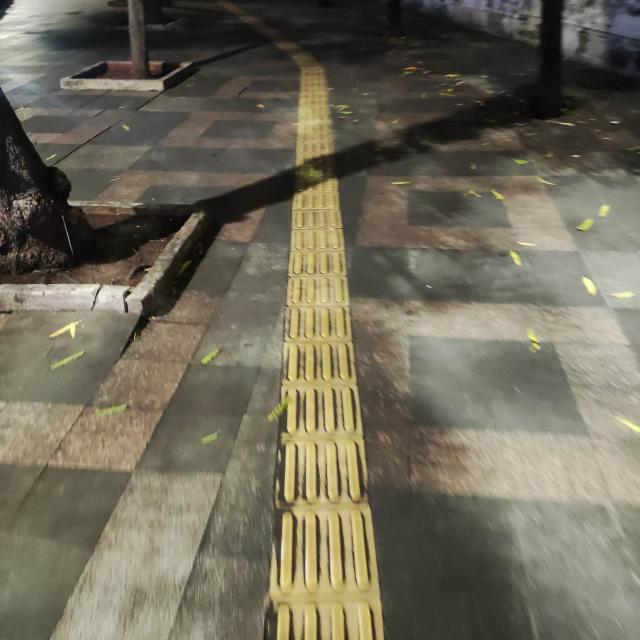lurus: (269, 46, 379, 640)
